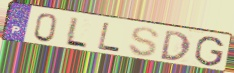0: (33, 12, 59, 43)
D: (159, 29, 192, 62)
G: (194, 36, 226, 68)
L: (63, 16, 89, 50), (96, 21, 121, 53)
S: (127, 26, 161, 58)
